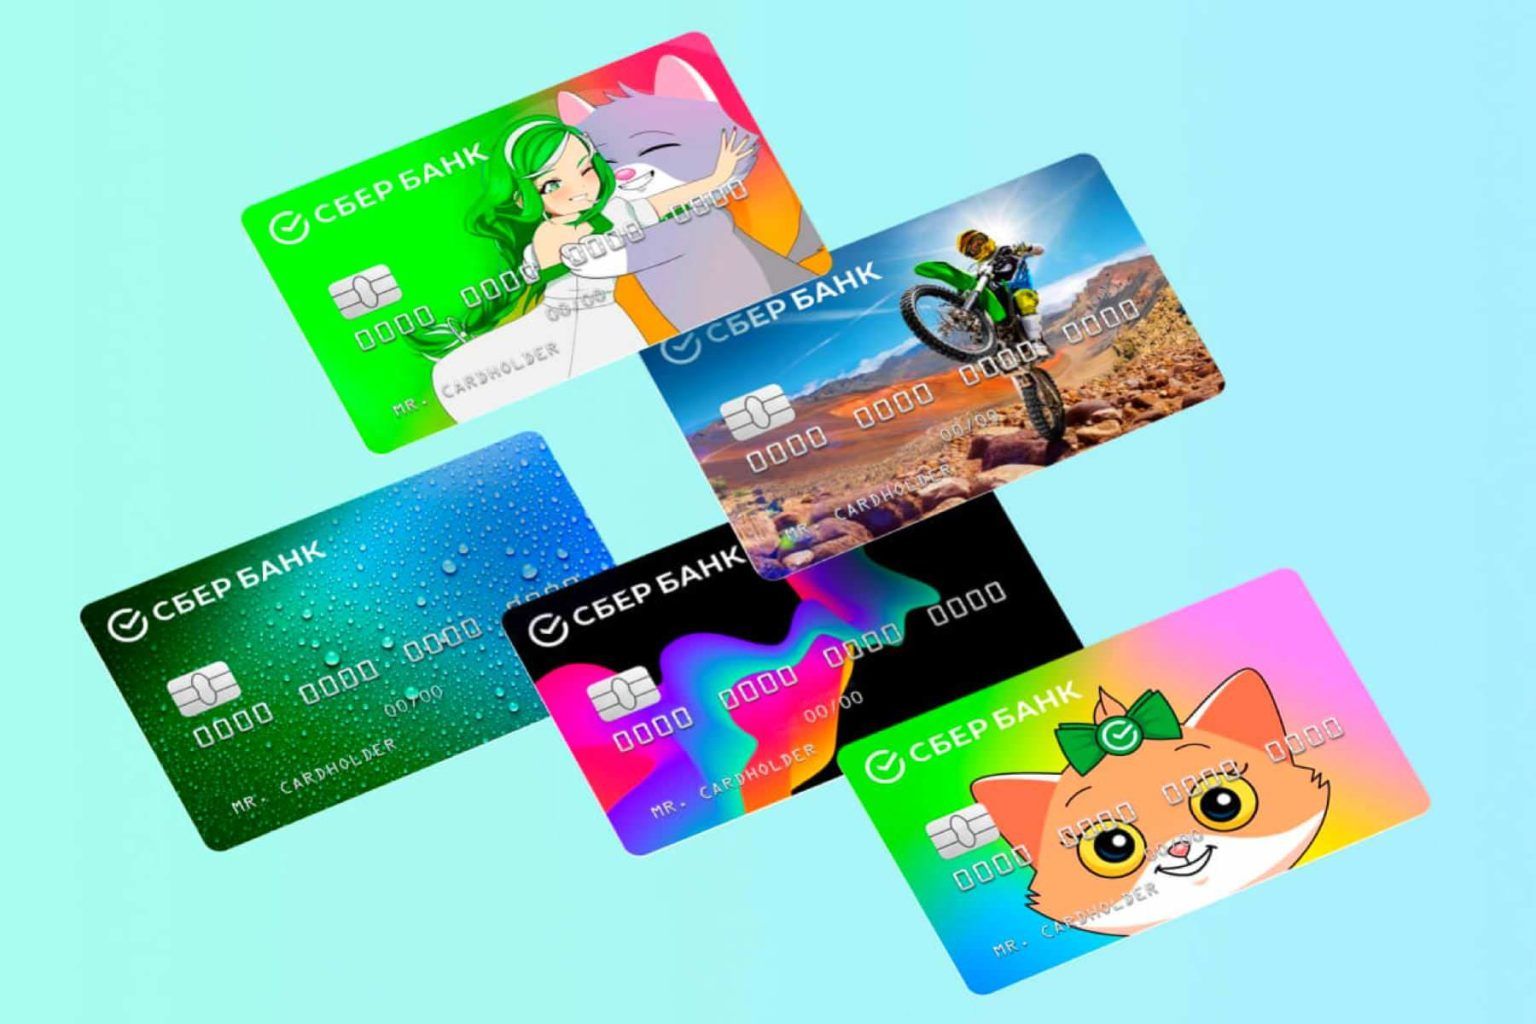card: (835, 568, 1430, 997), (639, 154, 1225, 582), (240, 32, 832, 454), (81, 431, 614, 851), (501, 490, 1080, 855)
